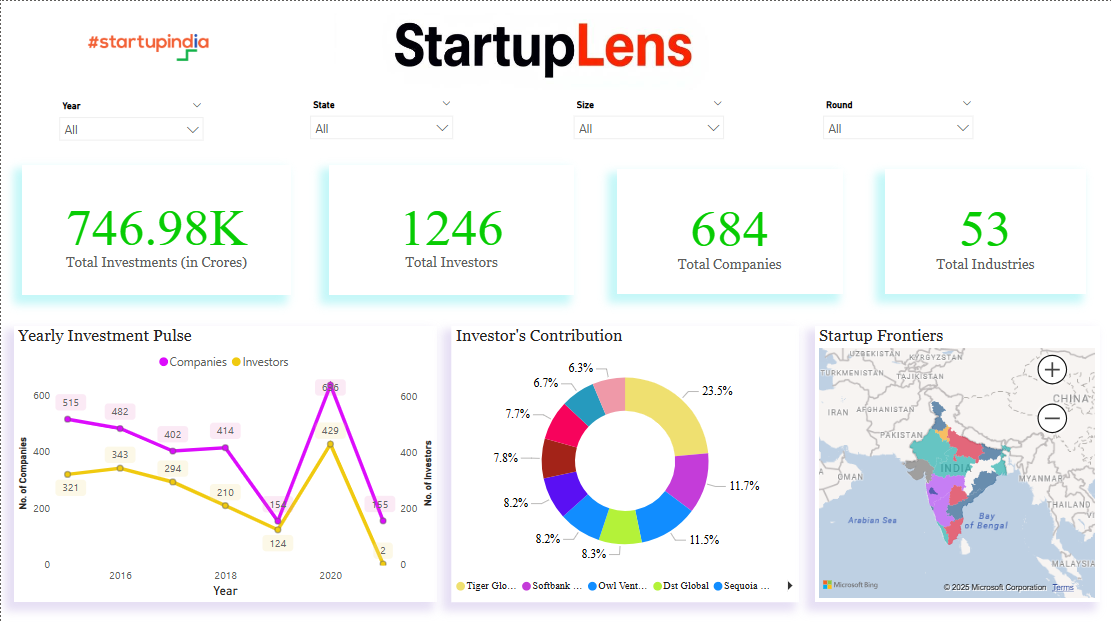

Layout of this report page (visuals, bound fields, positions):
{"tool":"powerbi","page":{"name":"KPI Metrics","canvas":[1280,720],"ordinal":0},"visuals":[{"type":"card","fields":{"Values":["Sum(Startups_funding.Amount)"]},"box":[25,188.3,308.9,150],"z":0},{"type":"card","fields":{"Values":["Count(Startups_funding.Company)"]},"box":[707.5,194.2,260.3,144.1],"z":1000},{"type":"card","fields":{"Values":["Count(Startups_funding.Investors)"]},"box":[376.5,188.3,282.4,150],"z":2000},{"type":"slicer","fields":{"Values":["Startups_funding.Funded_Year.Variation.Date Hierarchy.Year"]},"box":[58.2,109.1,185.5,61.8],"z":3000},{"type":"slicer","fields":{"Values":["Startups_funding.State"]},"box":[345.6,108.8,183.9,61.8],"z":4000},{"type":"card","fields":{"Values":["Count(Startups_funding.Industry)"]},"box":[1016.4,194.2,232.4,144.1],"z":5000},{"type":"slicer","fields":{"Values":["Startups_funding.Employee Size"]},"box":[648.6,108.8,192.7,61.8],"z":6000},{"type":"donutChart","title":"Investor''s Contribution","fields":{"Category":["Startups_funding.Investors"],"Y":["Sum(Startups_funding.Amount_in_crores)"]},"box":[517.7,373.6,400.1,317.7],"z":7000},{"type":"slicer","fields":{"Values":["Startups_funding.Round"]},"box":[935.5,108.8,192.7,61.8],"z":8000},{"type":"filledMap","title":"Startup Frontiers","fields":{"Category":["Startups_funding.State"]},"box":[935.5,373.6,328,317.7],"z":9000},{"type":"image","box":[14.8,8.2,219.7,80.3],"z":10000},{"type":"lineChart","title":"Yearly Investment Pulse","fields":{"Category":["Startups_funding.Funded_Year.Variation.Date Hierarchy.Year"],"Y":["CountNonNull(Startups_funding.Company)"],"Y2":["Count(Startups_funding.Investors)"]},"box":[14.7,373.6,486.8,317.7],"z":11000},{"type":"image","box":[345.9,8.2,531.1,100],"z":12000}]}

Visuals, with their boxes in screenshot pixels (x1, y1, x2, y2), scaled from the page's 1280x720 canvas onto the 1111x622 screenshot:
card - Sum(Startups_funding.Amount): [22,163,290,292]
card - Count(Startups_funding.Company): [614,168,840,292]
card - Count(Startups_funding.Investors): [327,163,572,292]
slicer - Startups_funding.Funded_Year.Variation.Date Hierarchy.Year: [51,94,212,148]
slicer - Startups_funding.State: [300,94,460,147]
card - Count(Startups_funding.Industry): [882,168,1084,292]
slicer - Startups_funding.Employee Size: [563,94,730,147]
"Investor''s Contribution" donutChart: [449,323,797,597]
slicer - Startups_funding.Round: [812,94,979,147]
"Startup Frontiers" filledMap: [812,323,1097,597]
image: [13,7,204,76]
"Yearly Investment Pulse" lineChart: [13,323,435,597]
image: [300,7,761,93]
